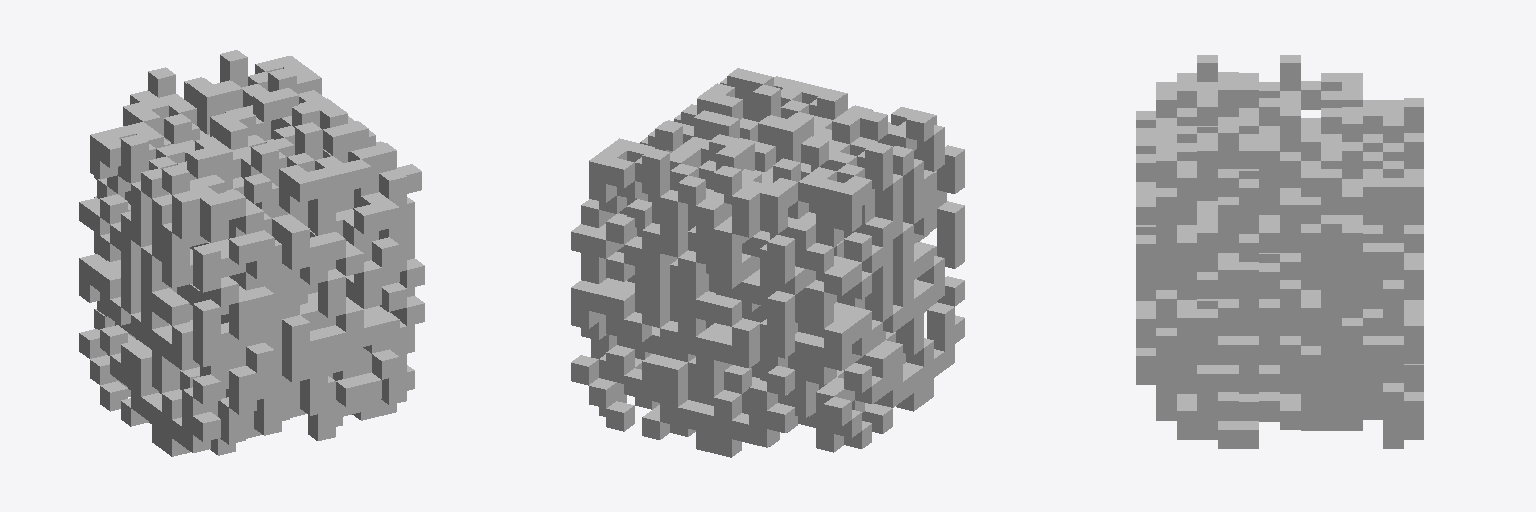
File: 3D Voxel Park-29.obj
3 renders of one model, left to right at view 1: azimuth 30°, elevation 25°; view 2: azimuth 150°, elevation 25°; view 3: azimuth 270°, elevation 25°, orthographic.
Parts seen in each view (by area): view 1: object 1; view 2: object 1; view 3: object 1.
Part boxes in pixels (x1,y1,x2,y2): object 1: (79,50,424,456); object 1: (571,68,964,457); object 1: (1136,55,1423,448).
Size of the model in its own units: 1.4 by 1.5 by 1.4.